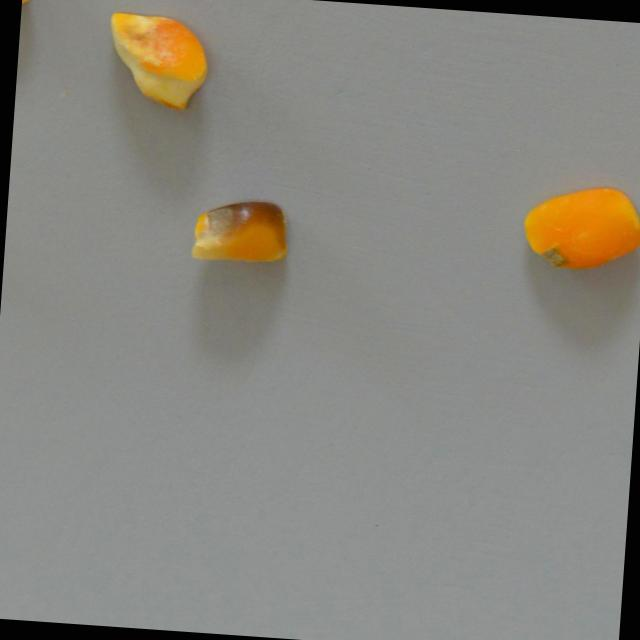dañado: (515, 168, 640, 290), (179, 173, 295, 294), (103, 0, 218, 119), (18, 0, 43, 50)
